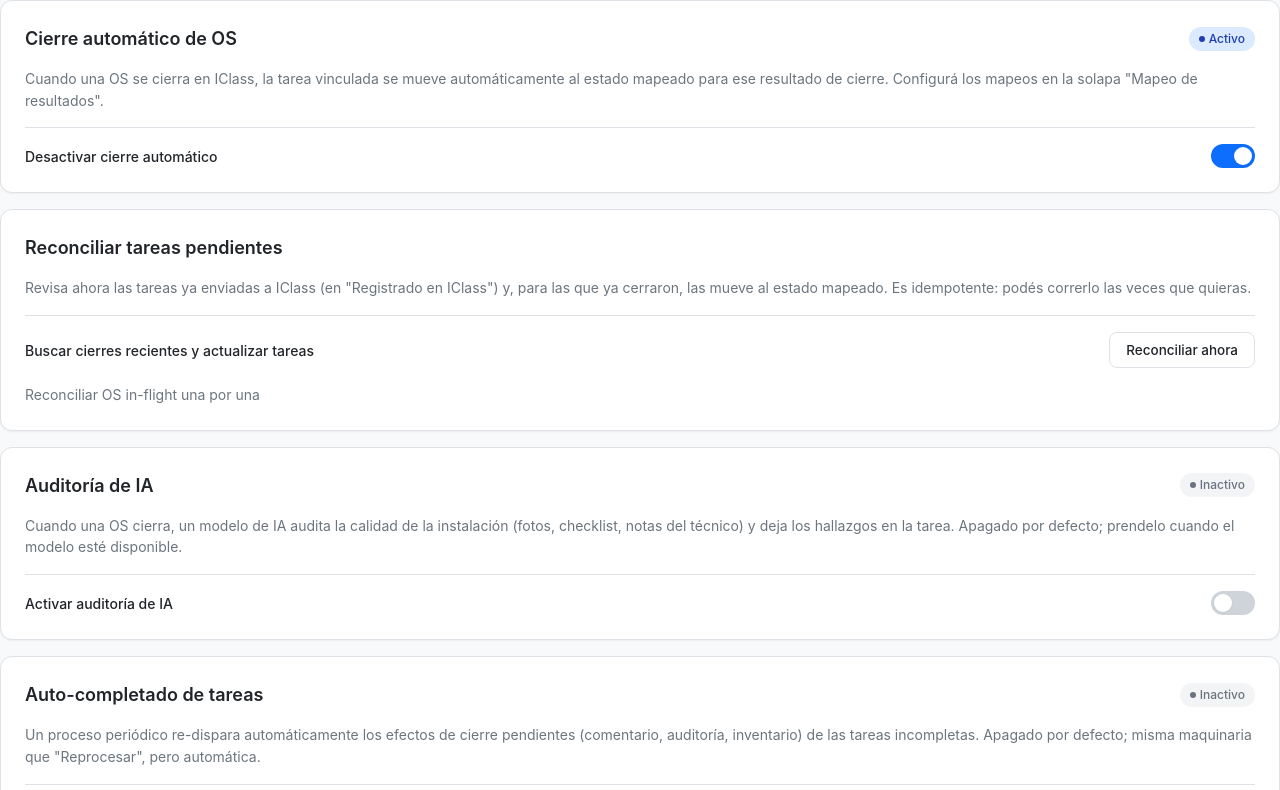
Test: IClassClosureFlagBody › B1.3 shows "No disponible" when backfill throws with 503 unavailable
Click the button "Reconciliar ahora".
click(1182, 350)  # box [1109,332,1255,368]
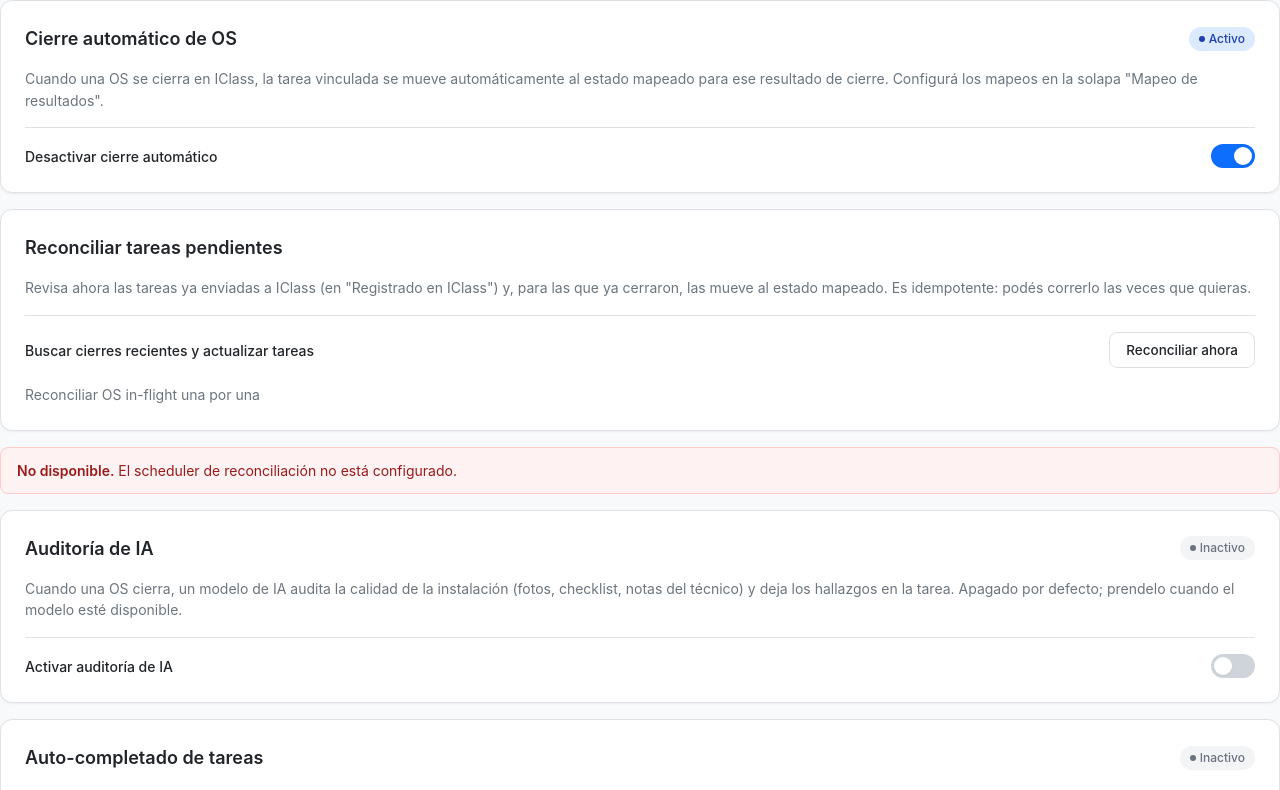
Result: the text "No disponible." is shown at [17,462,114,479]
